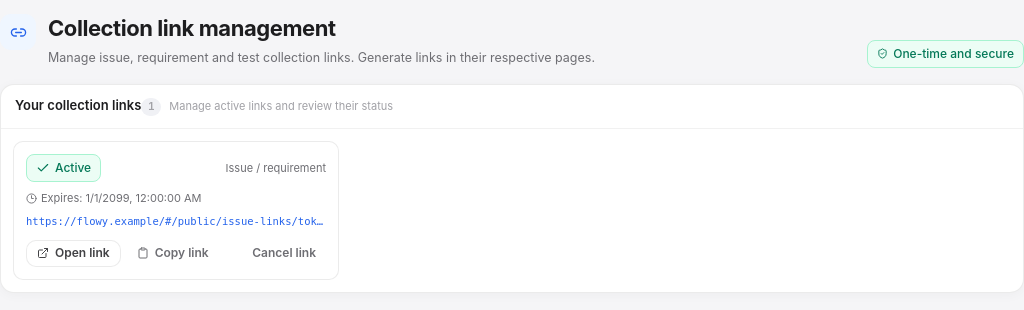
Scenario: TemporaryIssueLinksPage › cancels an active link and removes the open and cancel actions
Click the button "Cancel link". click: click(284, 253)
box: [242, 241, 326, 266]
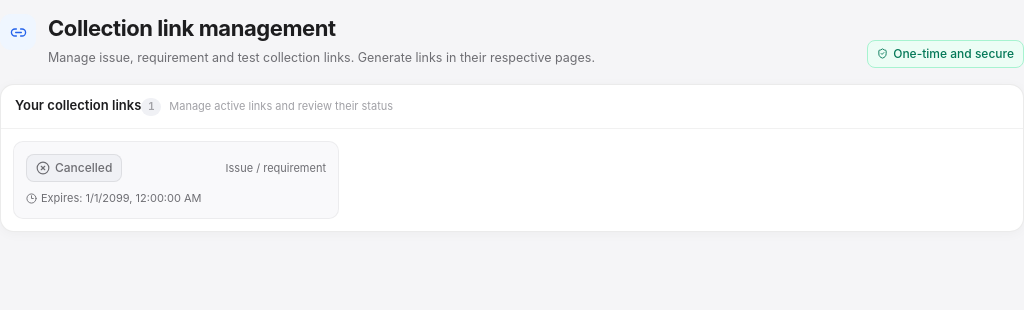
Expected: the text "Cancelled" is shown, [26, 154, 122, 182]
Expected: the link "Open link" is gone
Expected: the button "Cancel link" is gone
